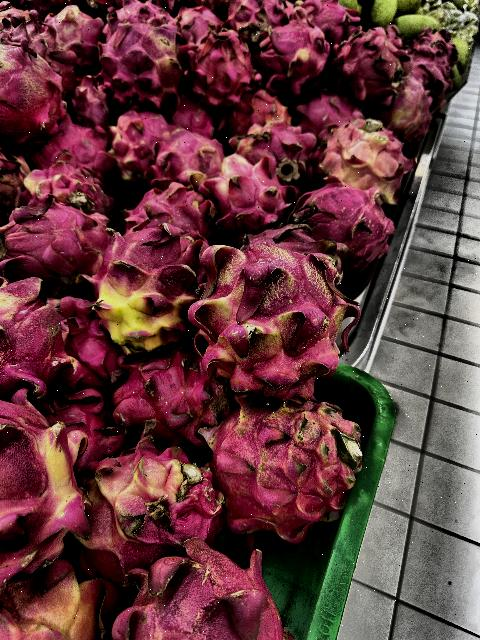buah-naga-belum-matang: (197, 230, 354, 396), (79, 436, 217, 580), (0, 390, 90, 568), (101, 222, 196, 346), (0, 270, 78, 400), (0, 566, 110, 640), (322, 122, 416, 205), (0, 38, 64, 138), (209, 153, 291, 230), (97, 24, 178, 100), (379, 77, 435, 133)
buah-naga-matang: (206, 402, 364, 536), (108, 548, 290, 640), (110, 348, 228, 442), (287, 176, 395, 268), (0, 200, 114, 284), (232, 120, 328, 194), (55, 290, 119, 384), (24, 157, 118, 219), (333, 26, 407, 104), (256, 20, 330, 94), (51, 386, 125, 456), (184, 34, 254, 104), (110, 110, 176, 183), (26, 116, 112, 172), (122, 183, 214, 235), (146, 129, 220, 183), (40, 5, 100, 70), (289, 88, 365, 132), (226, 90, 290, 138), (69, 82, 123, 138), (163, 94, 218, 146), (176, 5, 212, 50), (104, 4, 168, 26)
